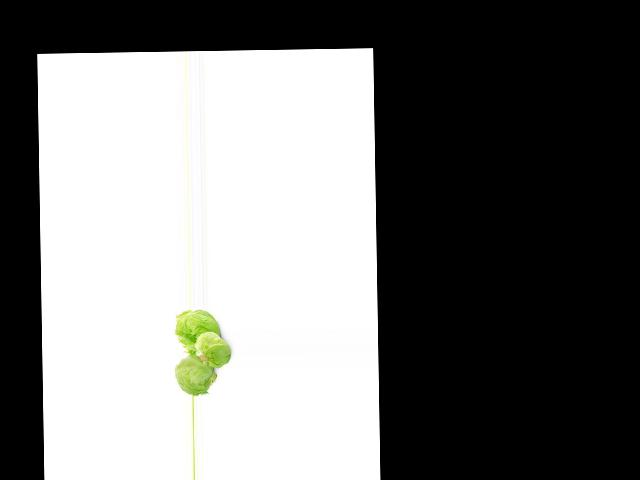lettuce: (177, 311, 217, 348)
